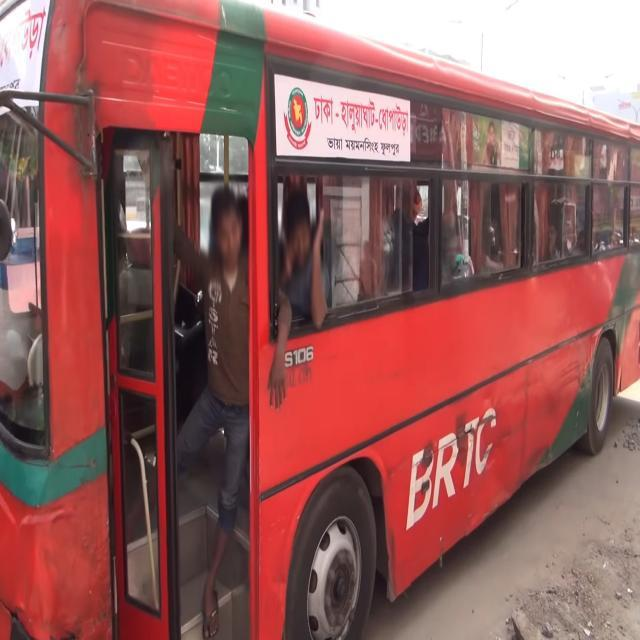bus: (1, 0, 640, 639)
